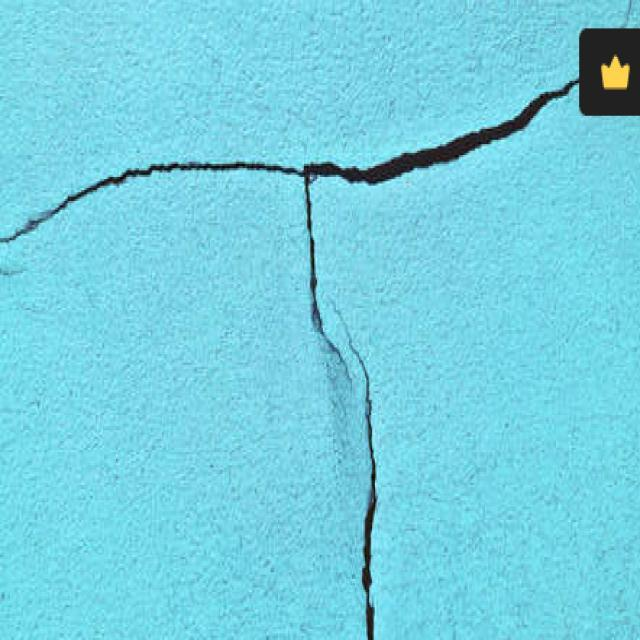branched cracks: (0, 79, 578, 362), (334, 309, 377, 639)
